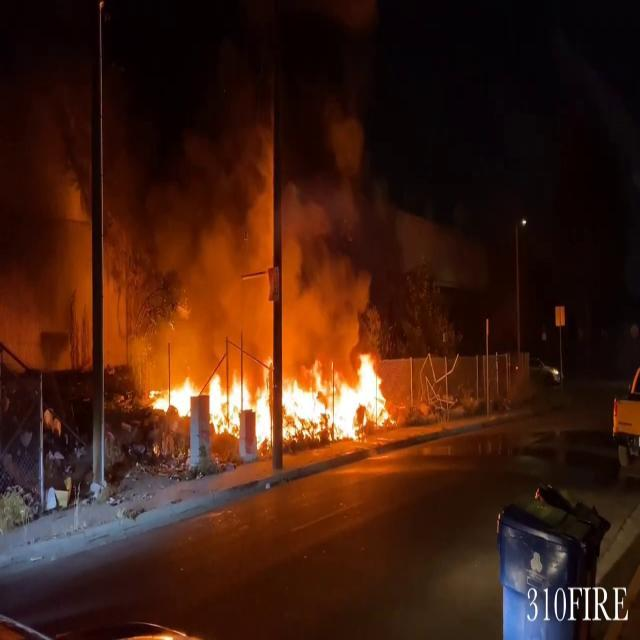Fire: (146, 344, 394, 446)
Smoke: (0, 28, 373, 349)
